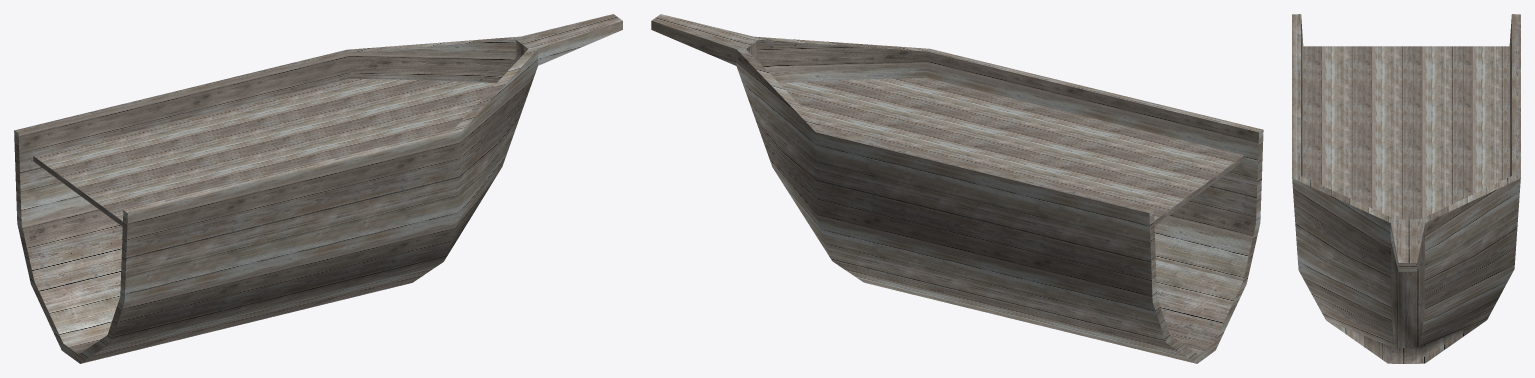
The model's file is Boat.fbx.
The picture shows the model from 3 angles, left to right: view 1: azimuth 30°, elevation 25°; view 2: azimuth 150°, elevation 25°; view 3: azimuth 270°, elevation 25°; orthographic projection.
Visible parts, largest first — view 1: Boat_Hull_Geo, Boat_Deck_Geo; view 2: Boat_Hull_Geo, Boat_Deck_Geo; view 3: Boat_Hull_Geo, Boat_Deck_Geo.
Boxes of the visible parts, x1=… form: Boat_Hull_Geo: x1=14, y1=14, x2=622, y2=363; Boat_Deck_Geo: x1=33, y1=78, x2=495, y2=226; Boat_Hull_Geo: x1=651, y1=14, x2=1263, y2=363; Boat_Deck_Geo: x1=779, y1=77, x2=1244, y2=225; Boat_Hull_Geo: x1=1292, y1=14, x2=1520, y2=363; Boat_Deck_Geo: x1=1303, y1=46, x2=1509, y2=219.
Bounding box in the file's own units: 93.8 × 33.63 × 33.73.
